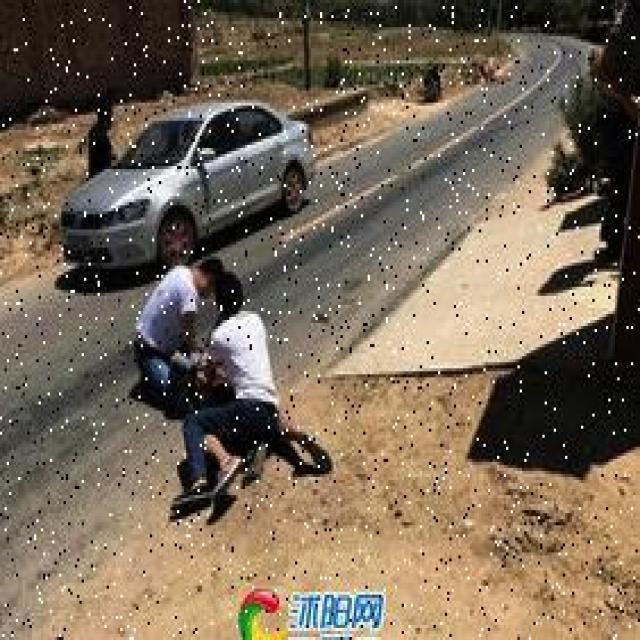fall: (175, 275, 282, 519)
